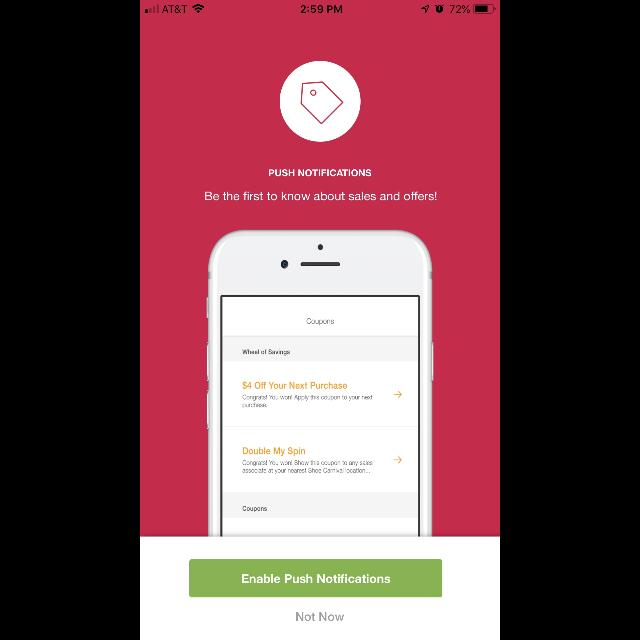icon: (280, 61, 360, 142)
image: (206, 229, 434, 536)
text: (206, 192, 437, 200), (269, 170, 371, 177), (296, 612, 344, 622)
textbutton: (190, 559, 442, 597)
uppertaskbar: (140, 0, 500, 14)
